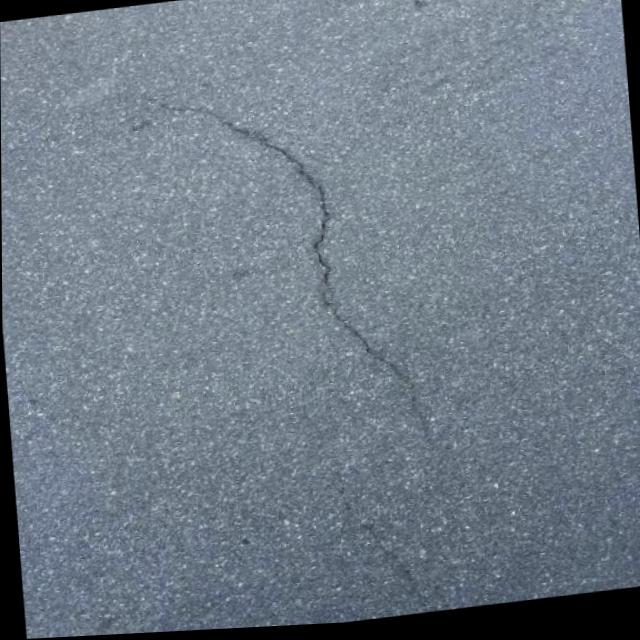Crack: (149, 73, 417, 429)
